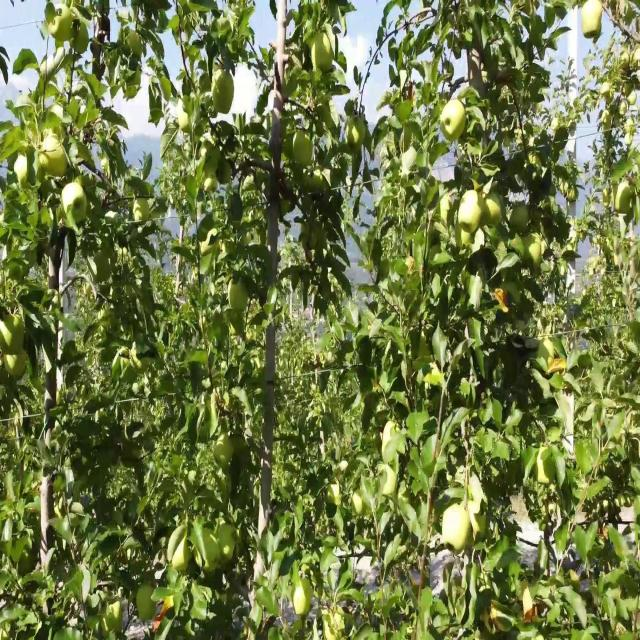apple: (444, 504, 471, 555), (440, 99, 468, 144), (40, 135, 68, 180), (0, 312, 27, 354), (64, 184, 88, 229), (212, 71, 236, 116), (536, 341, 564, 377), (460, 191, 481, 236), (172, 533, 193, 576), (312, 35, 336, 71), (580, 7, 604, 43), (4, 348, 29, 382), (228, 277, 251, 313), (52, 14, 75, 50), (484, 191, 504, 228), (468, 504, 488, 539), (292, 583, 312, 617), (296, 135, 315, 169), (524, 234, 543, 268), (104, 604, 124, 635), (16, 156, 33, 190), (216, 433, 232, 469), (124, 71, 143, 100), (616, 184, 633, 215), (512, 206, 530, 235), (456, 227, 475, 254), (524, 590, 538, 626), (128, 28, 144, 59), (228, 312, 247, 338), (381, 469, 397, 498), (284, 127, 296, 164), (140, 590, 153, 624), (548, 355, 567, 377), (76, 28, 90, 57), (136, 199, 151, 226), (292, 163, 307, 190), (308, 170, 323, 196), (496, 291, 511, 315), (180, 106, 192, 135), (204, 170, 218, 194), (352, 490, 364, 517), (220, 163, 233, 185), (328, 483, 341, 505), (384, 426, 397, 448), (48, 14, 59, 36), (632, 49, 640, 73), (628, 92, 640, 107)
